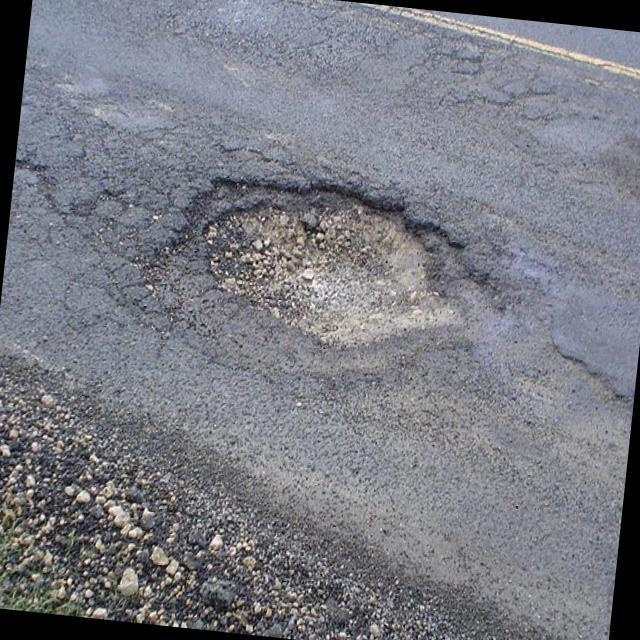Pothole: (200, 179, 624, 406)
